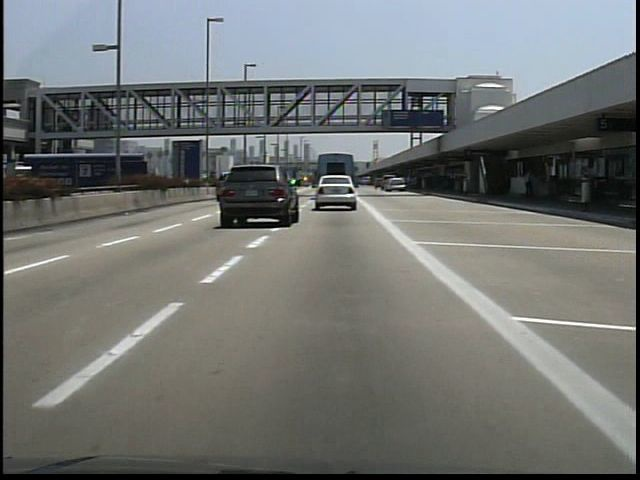person: (519, 168, 540, 205)
